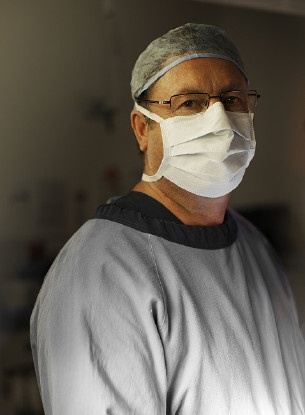Mask: (157, 80, 272, 197)
